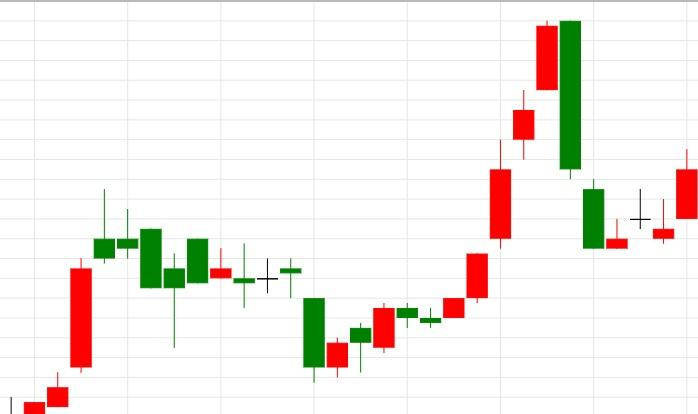bearish_engulfing_fall: (444, 21, 581, 319)
shooting_star_fall: (24, 189, 115, 414)
